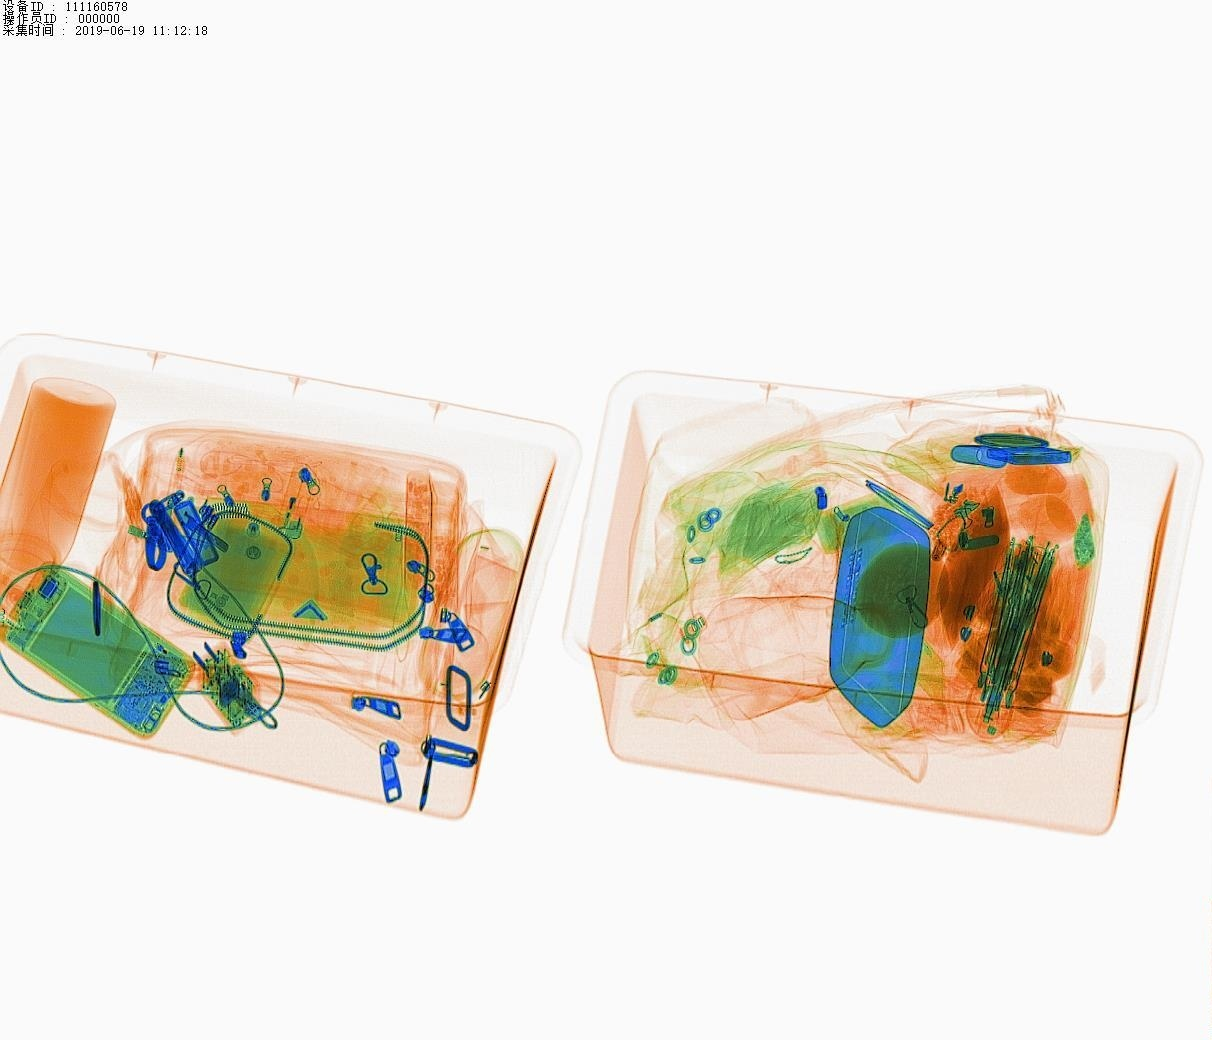NonmetallicFire: (262, 457, 349, 560)
